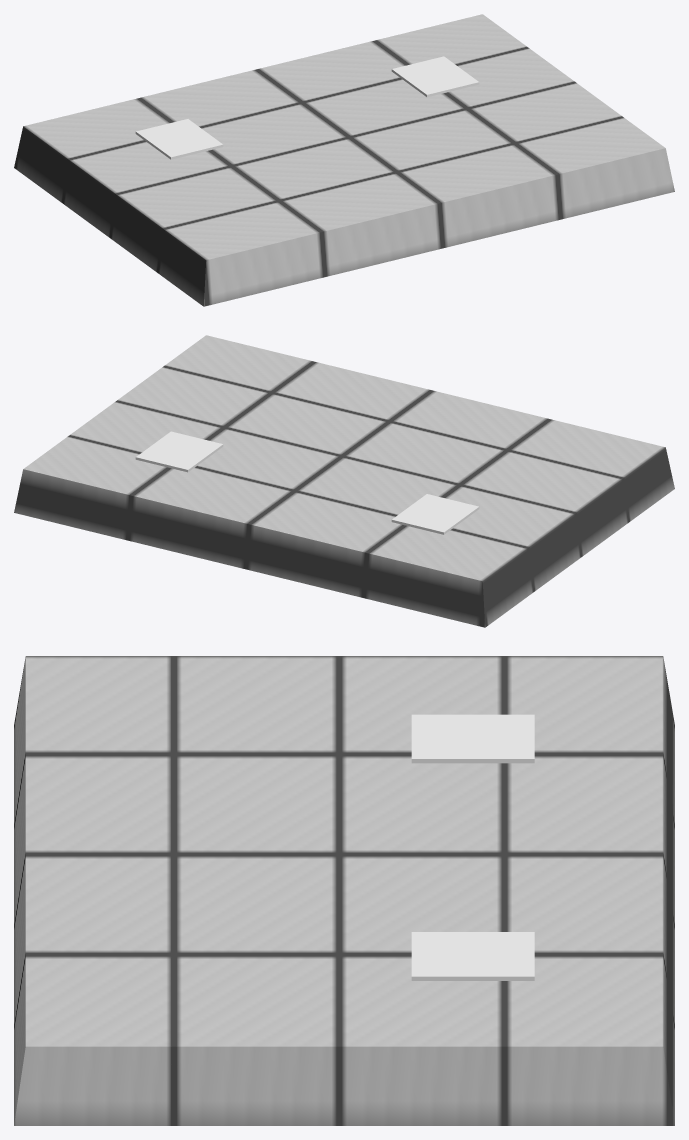
Rendered from hood-textured-DDNANr0C.glb.
The picture shows the model from 3 angles, top to bottom: view 1: azimuth 30°, elevation 25°; view 2: azimuth 150°, elevation 25°; view 3: azimuth 270°, elevation 25°; orthographic projection. The views are drawn at different scales.
Parts seen in each view (by area): view 1: body:bulancia:hood:stock; view 2: body:bulancia:hood:stock; view 3: body:bulancia:hood:stock.
Part boxes in pixels (bbox=[...]): body:bulancia:hood:stock: bbox=[14, 14, 674, 306]; body:bulancia:hood:stock: bbox=[14, 335, 674, 627]; body:bulancia:hood:stock: bbox=[14, 656, 674, 1125].
Size of the model in its own units: 1.62 by 0.151 by 1.13.
Materials: 2 (1 with a texture image).
